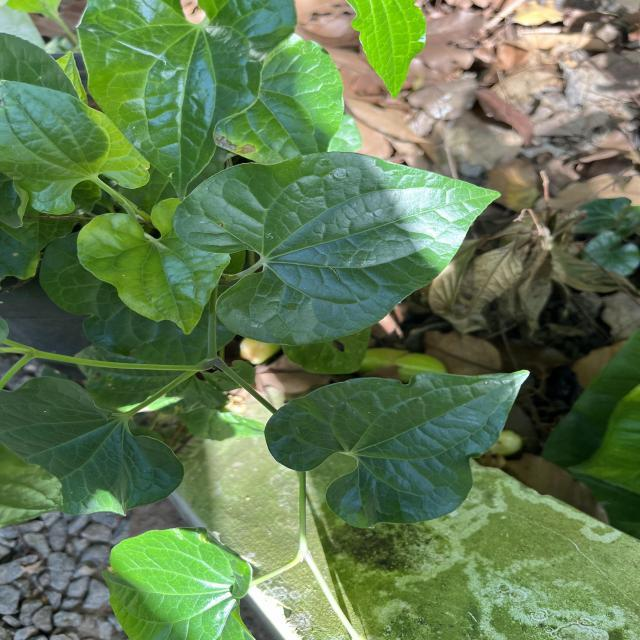Piper longum: (171, 150, 504, 348), (263, 367, 532, 530), (74, 195, 234, 339)
